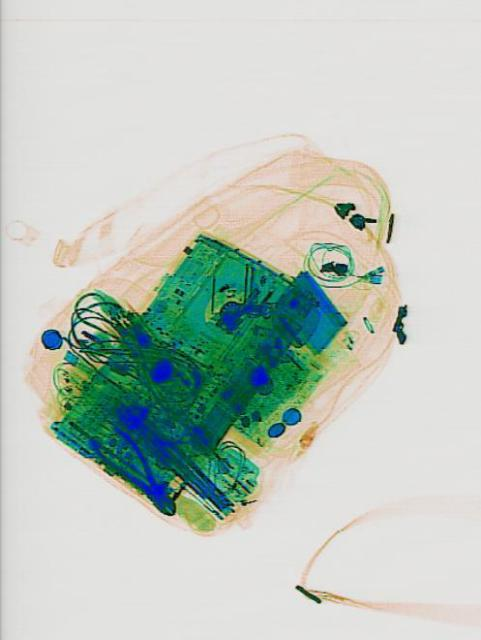Pliers: (88, 415, 185, 529)
